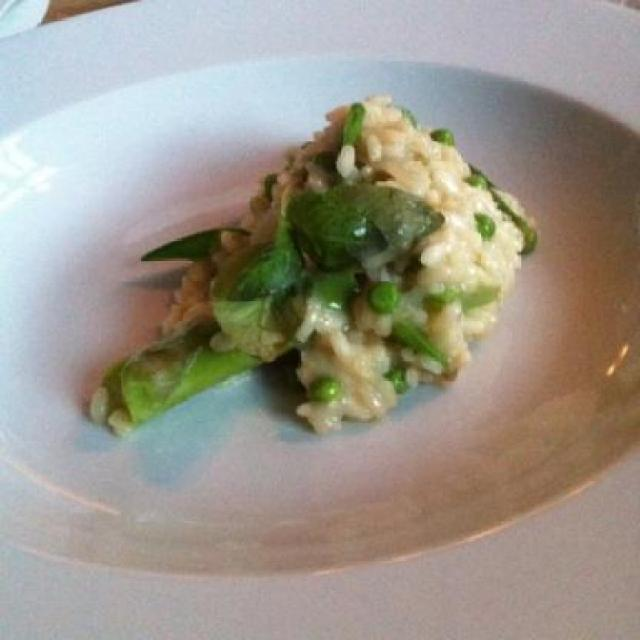Risotto: (187, 120, 559, 432)
